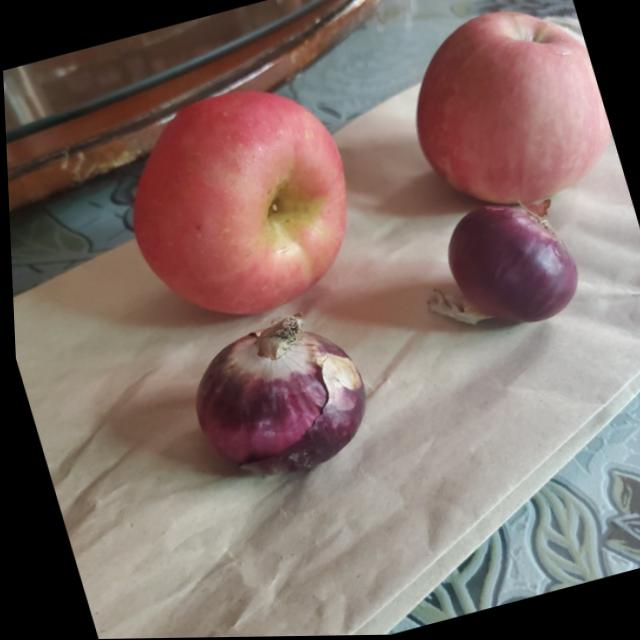apple: (96, 60, 381, 337), (382, 0, 626, 234)
onion: (177, 308, 380, 492), (426, 184, 585, 339)
